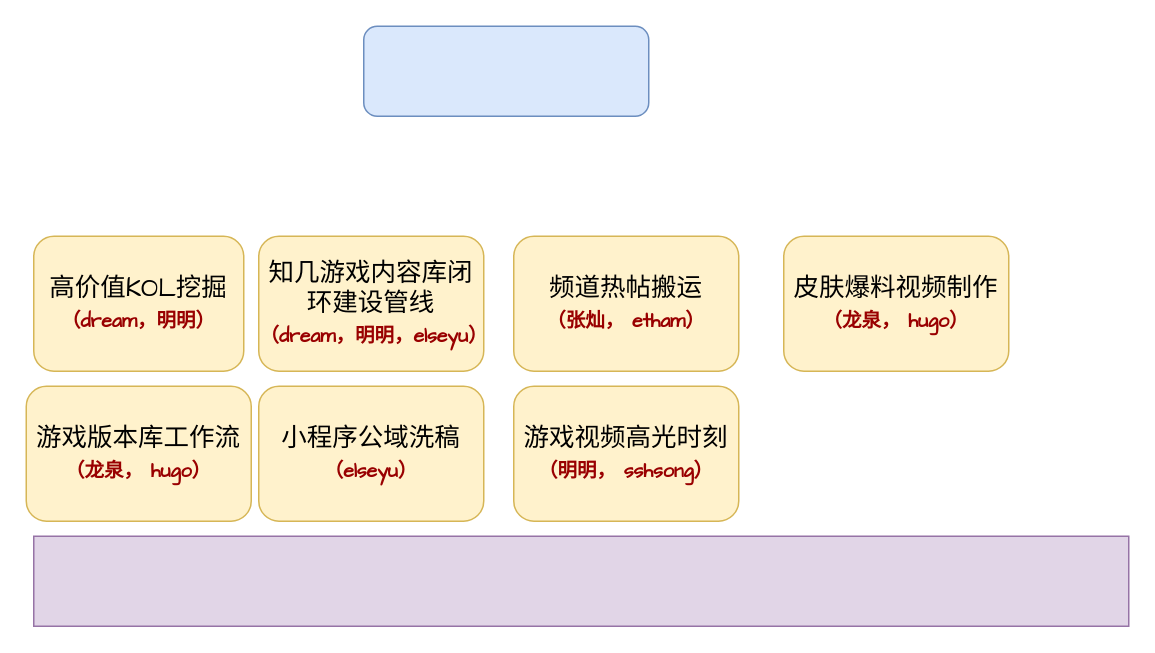
Image size: 1155x653. Some labels were removed from this diagram. The box of each missing label's shape, as (x1, y1, x2, y2) in pixels:
公域内容库: (32, 535, 1129, 626)
公域系统: (362, 25, 649, 116)
